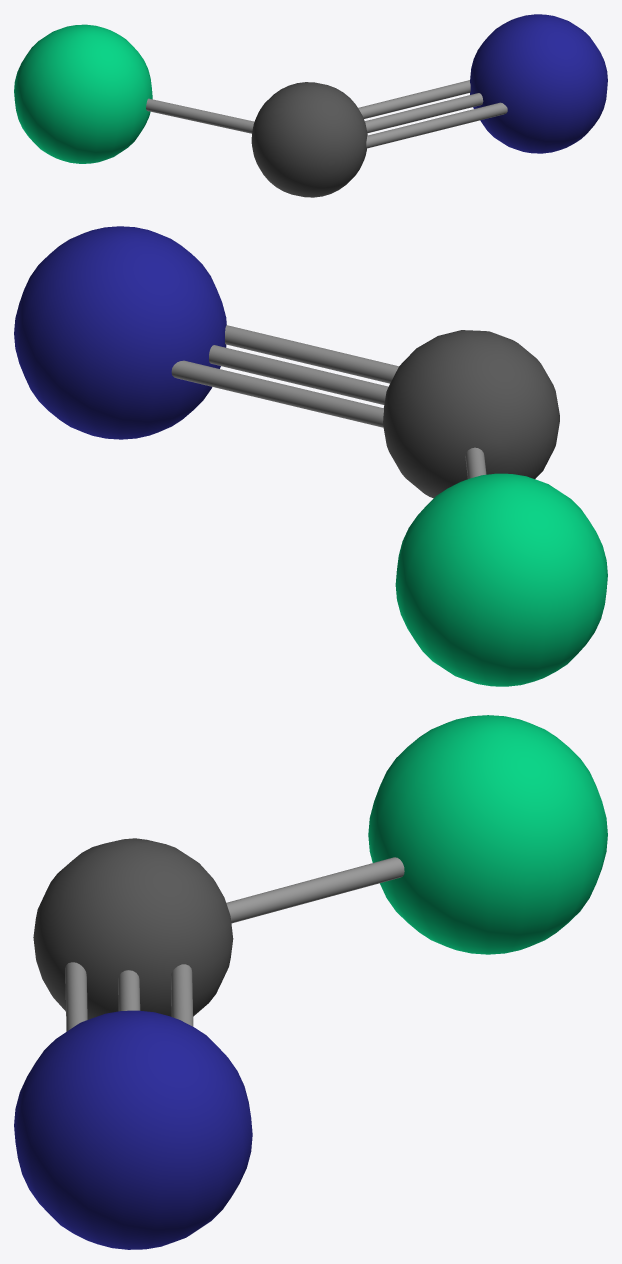
File: KCN.fbx
3 renders of one model, top to bottom at view 1: azimuth 30°, elevation 25°; view 2: azimuth 150°, elevation 25°; view 3: azimuth 270°, elevation 25°, orthographic. The views are drawn at different scales.
Parts seen in each view (by area): view 1: KCN; view 2: KCN; view 3: KCN.
Boxes of the visible parts, x1,y1,x2,y2 form: KCN: (14, 14, 607, 197); KCN: (14, 226, 607, 686); KCN: (14, 715, 607, 1249).
Bounding box in the file's own units: 7.83 × 2 × 4.96.
